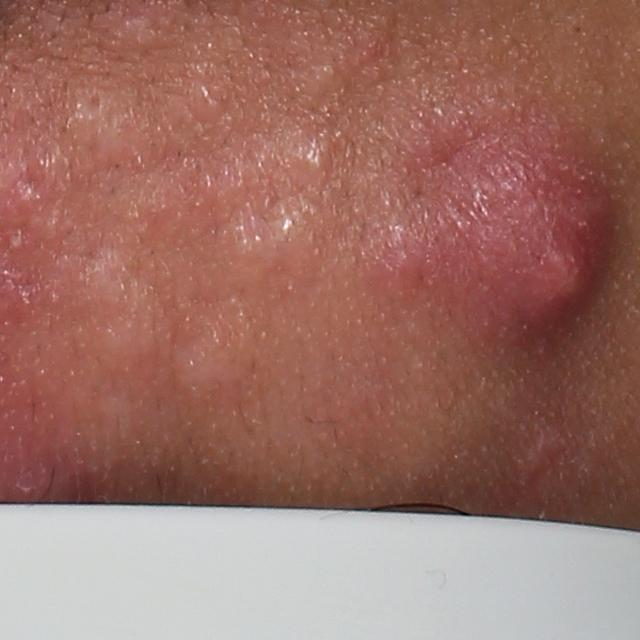hypertrophic_scar: (68, 243, 170, 384), (201, 131, 341, 209), (62, 96, 153, 188), (207, 202, 326, 269), (160, 331, 262, 395), (297, 49, 339, 101)
nodule: (414, 85, 628, 352)
